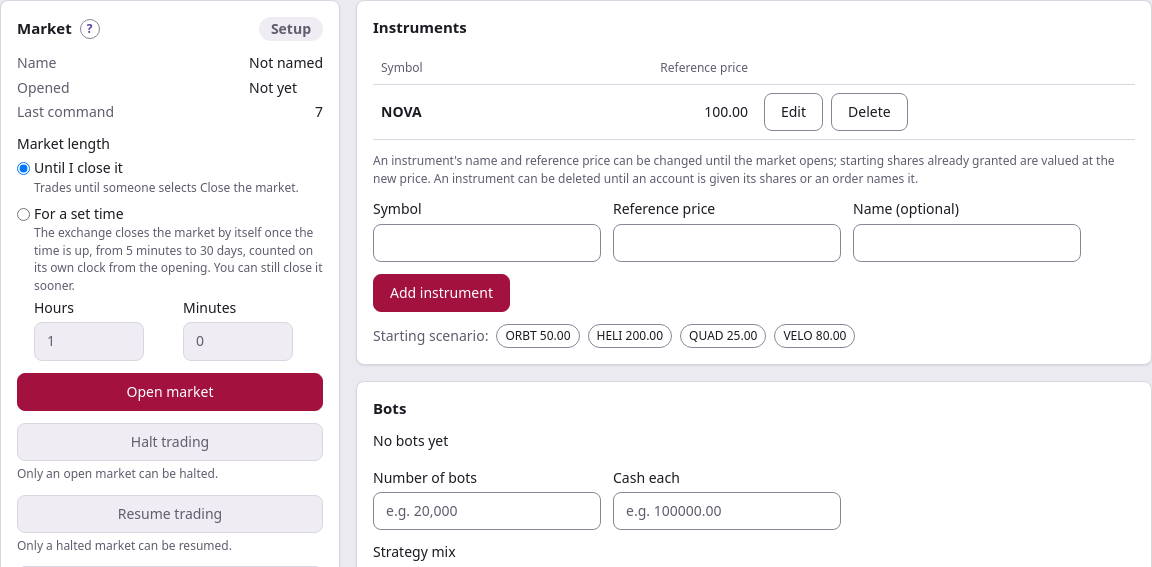
the operator screen › adds an instrument from a starting-scenario suggestion and keeps the input after a refusal
Expected: the table named "Instruments" is shown, [373, 51, 1135, 140]
Click the button "ORBT 50.00" at (538,336), box [496, 324, 580, 348]
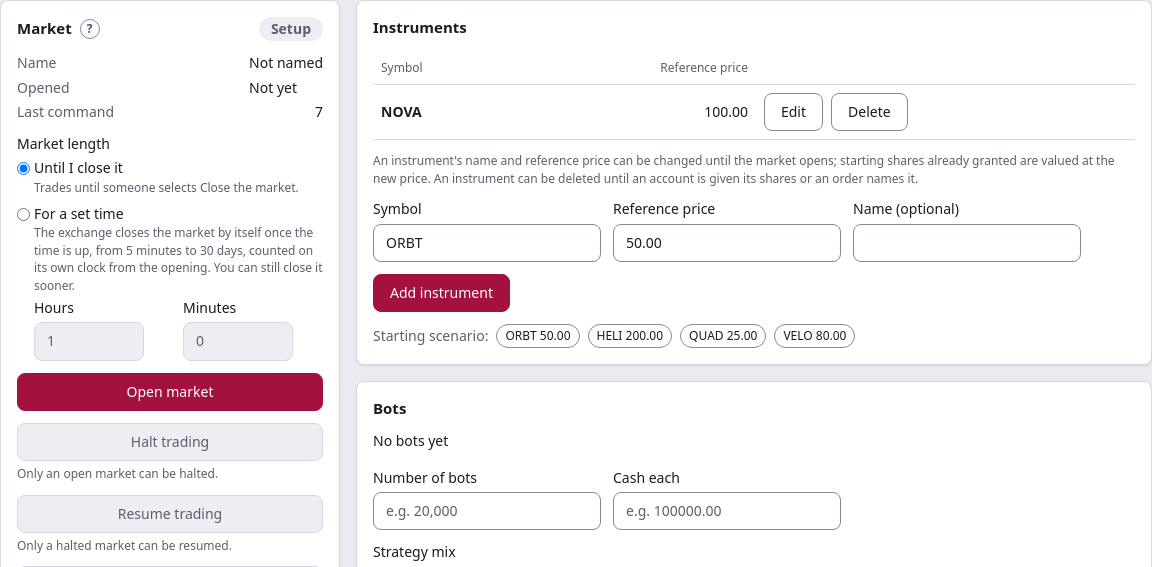
Click the button "Add instrument" at (442,293), box [373, 274, 510, 312]
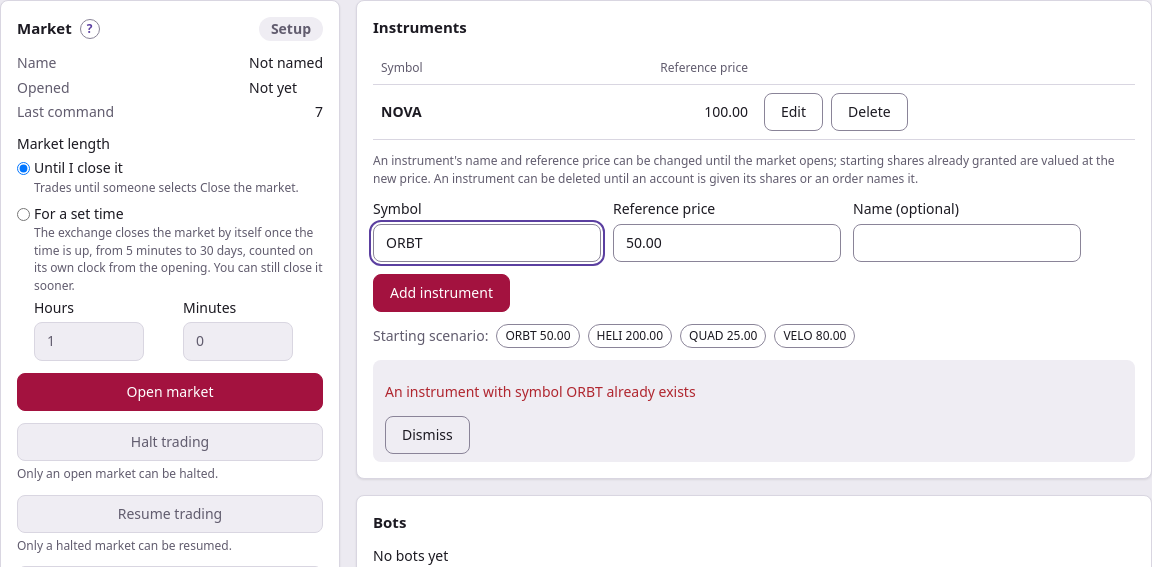
Now the field labelled "Symbol" holds "ORBT", box [373, 224, 601, 262]
Now the text "An instrument with symbol ORBT already exists" is shown, box [385, 382, 696, 400]
Type " Orbit Labs " into the field labelled "Name (optional)" at (967,243), box [853, 224, 1081, 262]
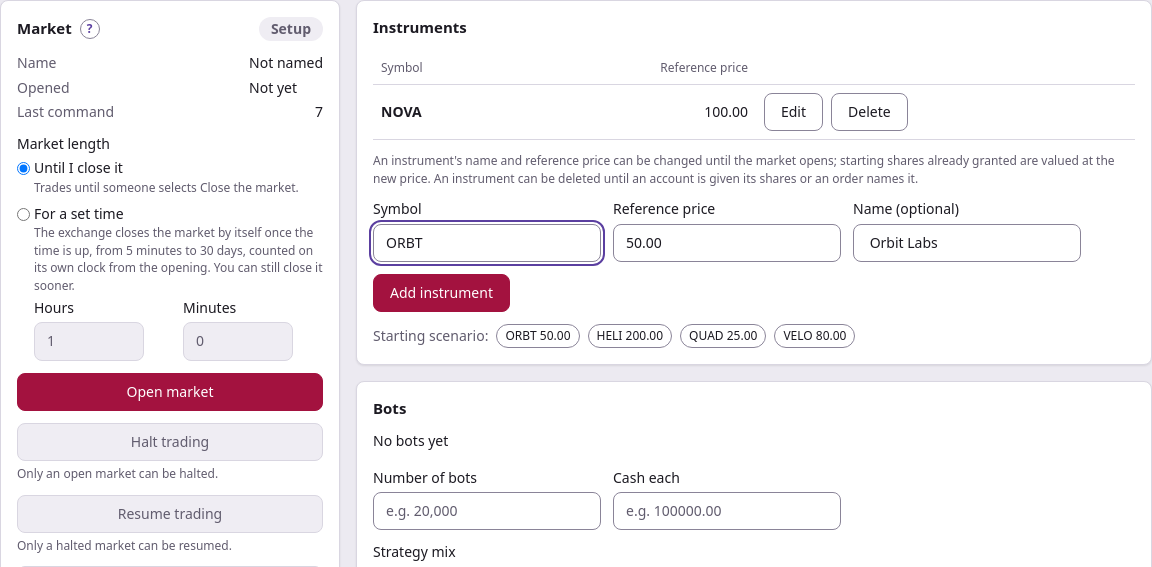
Now the text "An instrument with symbol ORBT already exists" is gone
Click the button "Add instrument" at (442,293), box [373, 274, 510, 312]
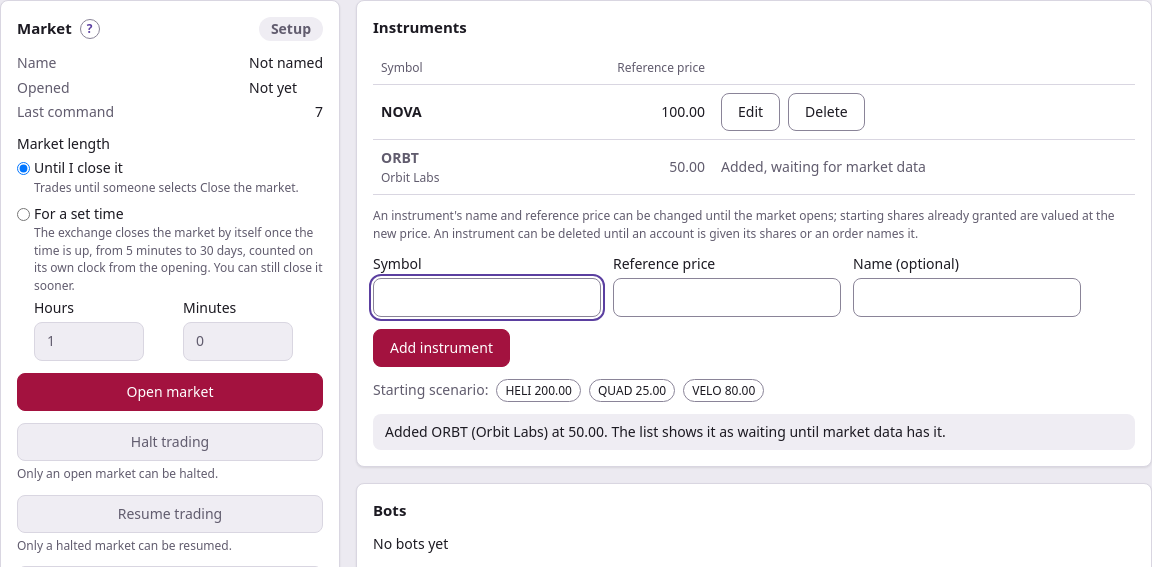
Expected: the field labelled "Name (optional)" is empty, [853, 278, 1081, 316]
Now the text "Added ORBT (Orbit Labs) at 50.00" is shown, box [385, 422, 946, 441]
